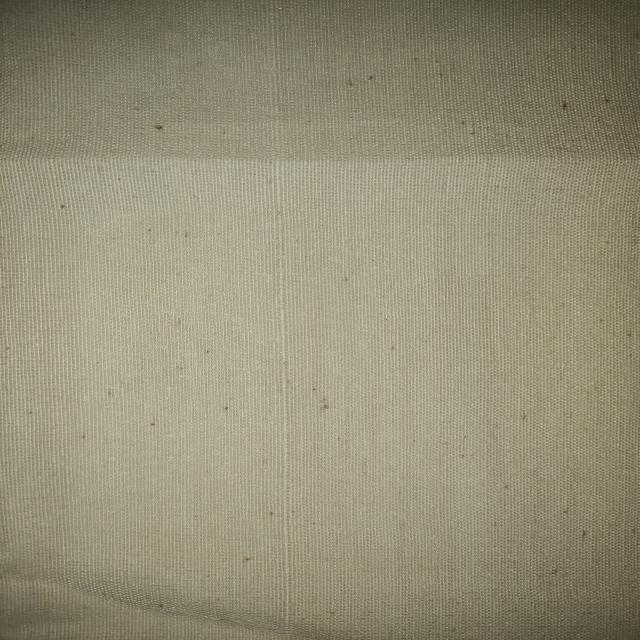stains: (222, 30, 344, 618)
